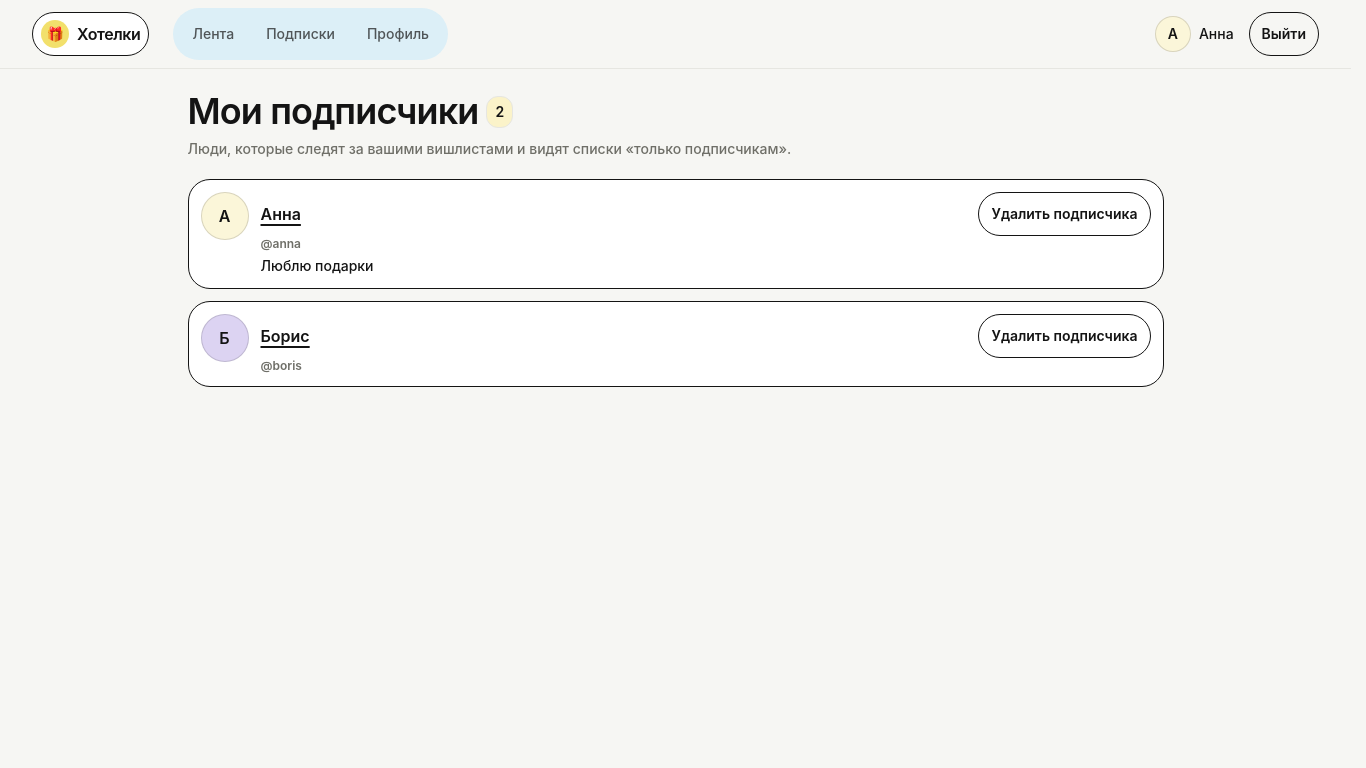
Scenario: мои подписчики › рендерит список и позволяет удалить подписчика
The image size is (1366, 768).
Expected: the heading "Мои подписчики" is shown, [188, 93, 478, 131]
Expected: the link "Борис" is shown, [260, 326, 310, 346]
Click the button "Удалить подписчика" in the row of "Борис" at [1064, 336], box [978, 314, 1150, 358]
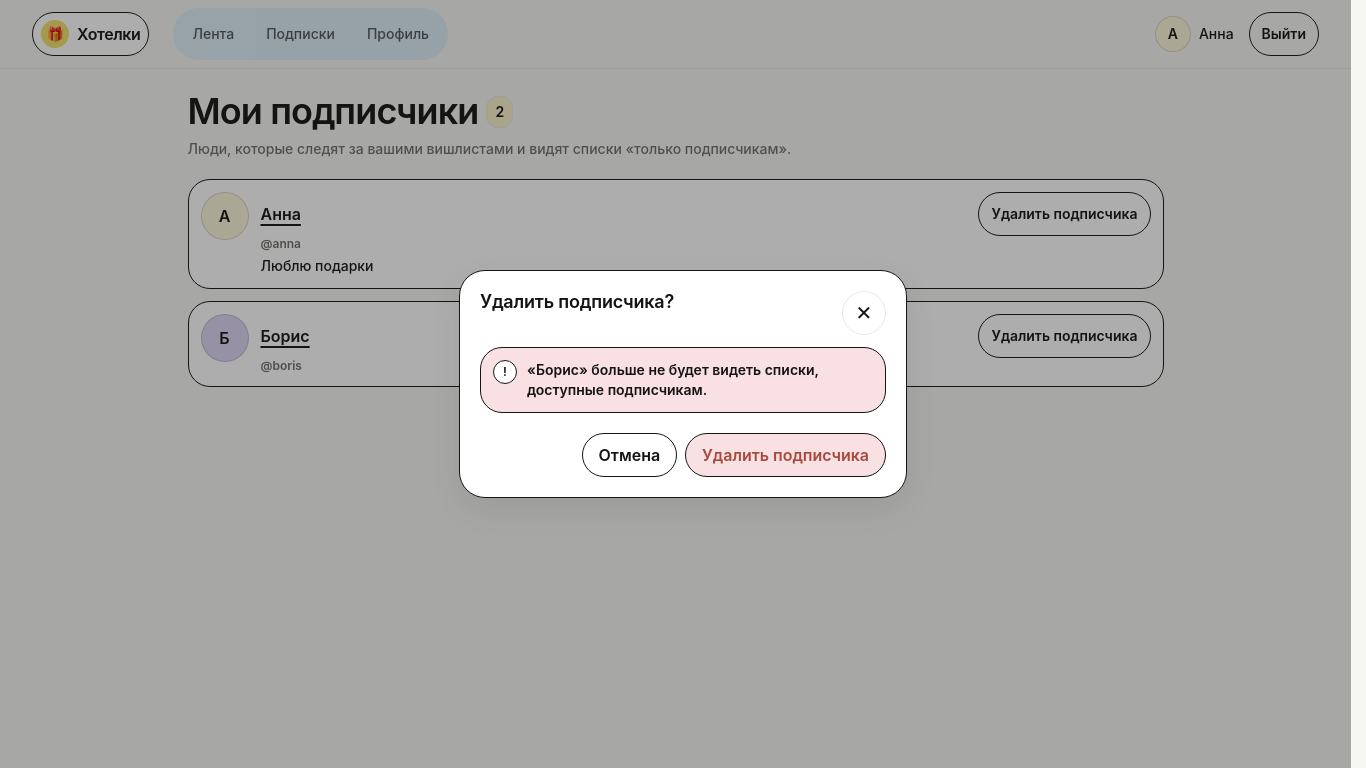
Expected: the text "больше не будет видеть списки" is shown, [527, 361, 819, 398]
Click the button "Удалить подписчика" at [786, 455], box [685, 433, 886, 477]
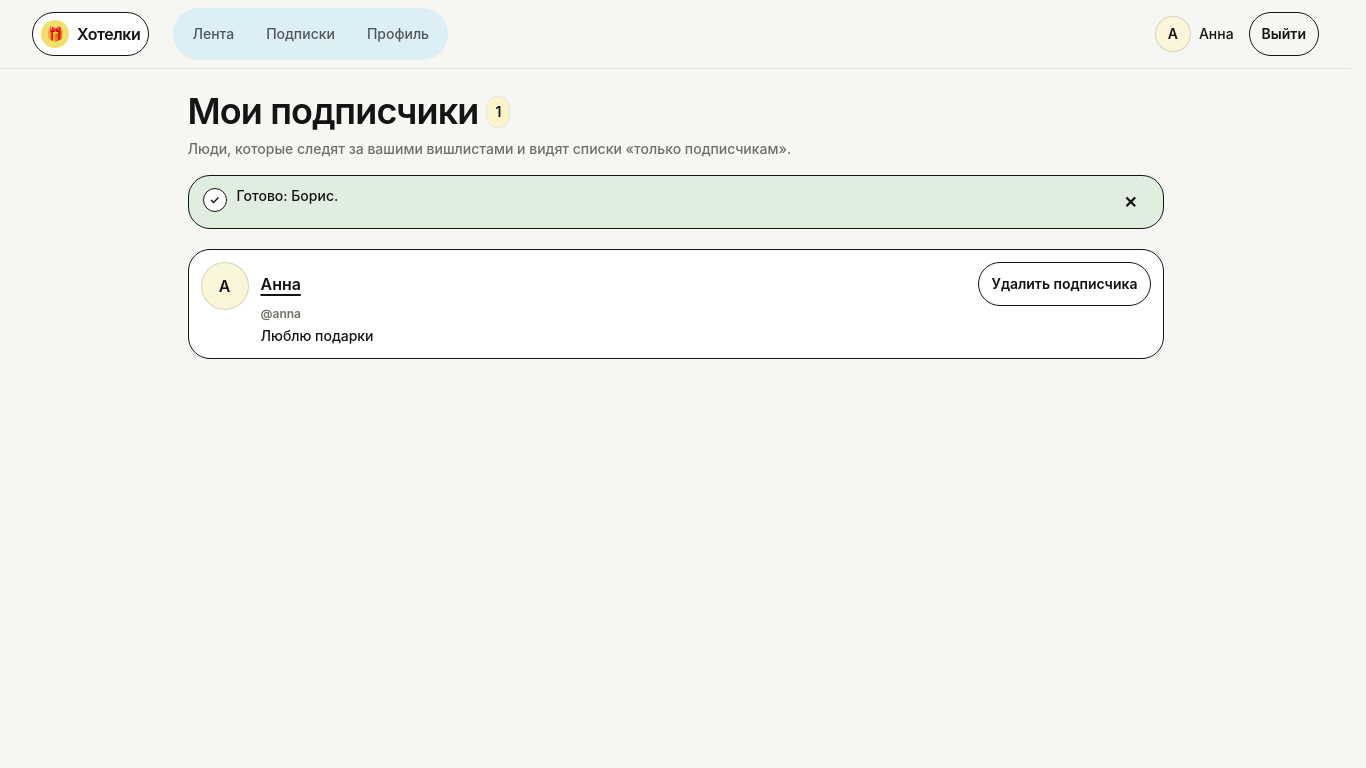
Expected: the text "Готово: Борис." is shown, [236, 187, 338, 204]
